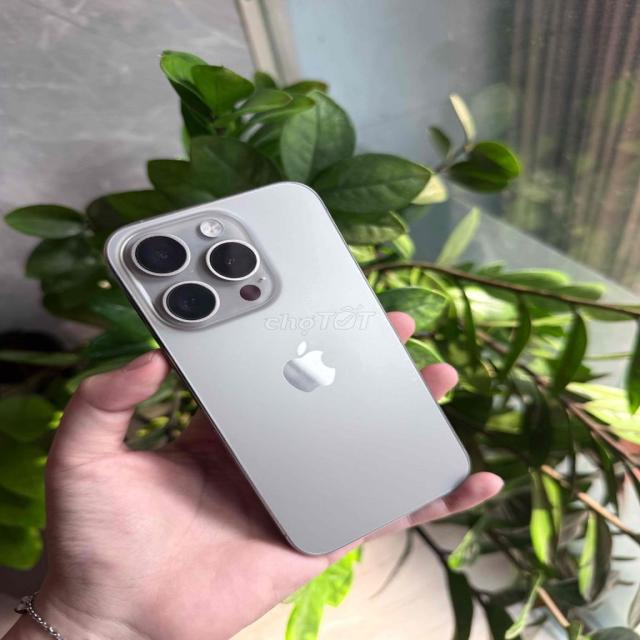gen_15: (73, 170, 484, 548)
